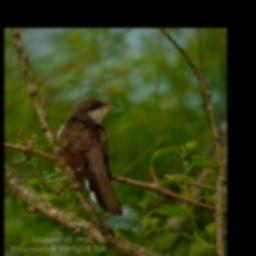Cuckoo: (57, 98, 124, 216)
